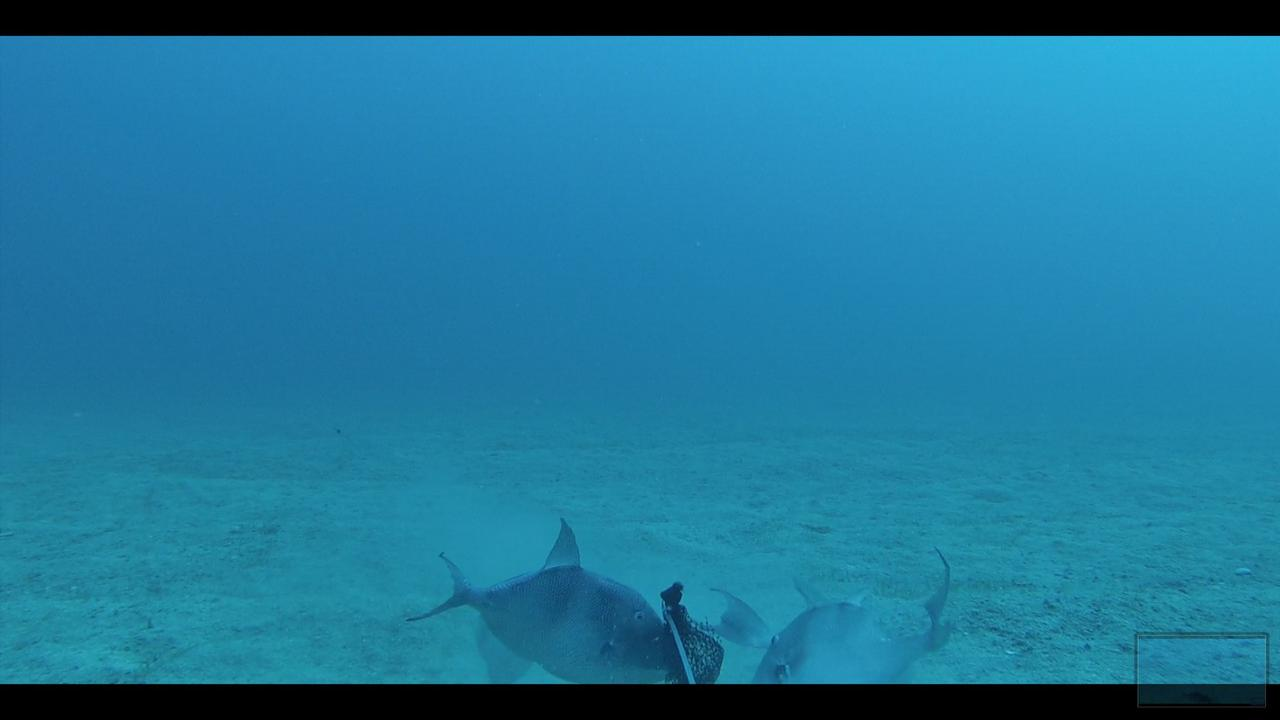balistes: (394, 512, 673, 682), (750, 546, 952, 682)
